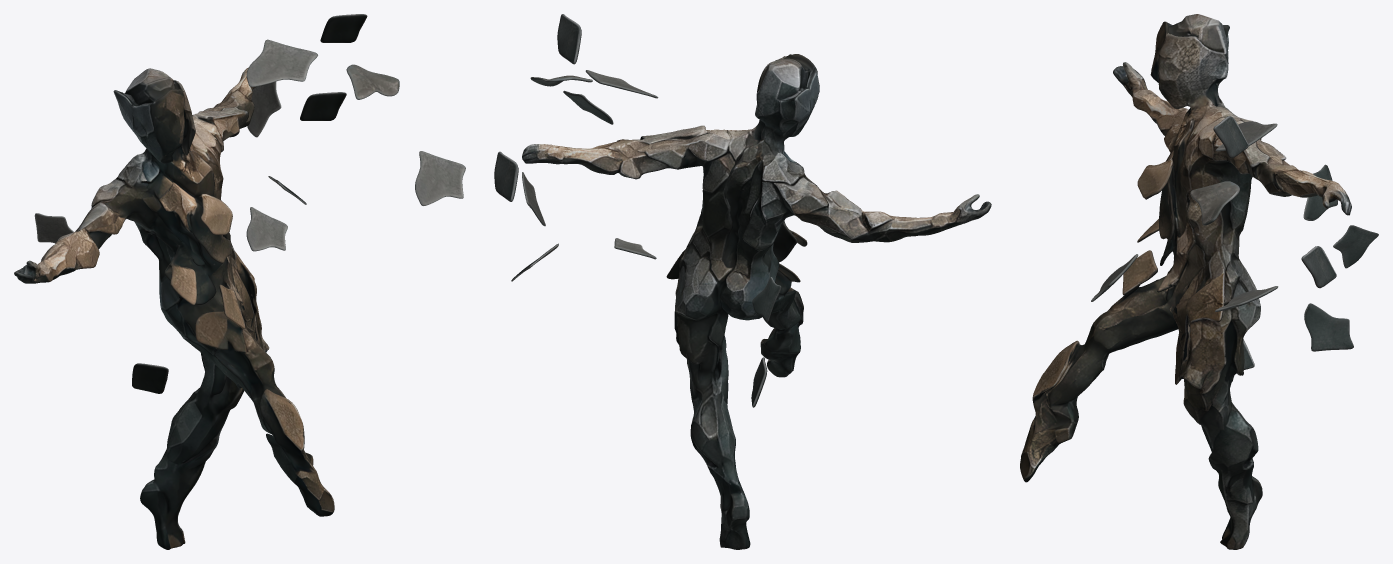
The model's file is huntington-jeff.glb.
3 renders of one model, left to right at view 1: azimuth 30°, elevation 25°; view 2: azimuth 150°, elevation 25°; view 3: azimuth 270°, elevation 25°, orthographic. The views are drawn at different scales.
Parts seen in each view (by area): view 1: tripo_node_1b9d6a059, moving3, moving004, moving010, moving2, moving006, moving1, moving005, moving008, moving007; view 2: tripo_node_1b9d6a059, moving1, moving005, moving007; view 3: tripo_node_1b9d6a059, moving009, moving2, moving006, moving1, moving005, moving007, moving3, moving010.
Boxes of the visible parts, x1,y1,x2,y2 form: tripo_node_1b9d6a059: (14,67,334,549); moving3: (246,39,317,87); moving004: (415,151,465,205); moving010: (246,207,287,251); moving2: (346,64,399,99); moving006: (247,81,281,137); moving1: (320,14,367,42); moving005: (300,92,346,120); moving008: (132,363,168,393); moving007: (34,213,73,243); tripo_node_1b9d6a059: (522,54,991,549); moving1: (557,14,581,64); moving005: (494,151,518,201); moving007: (752,277,781,322); tripo_node_1b9d6a059: (1020,14,1351,549); moving009: (1304,303,1353,351); moving2: (1190,181,1239,225); moving006: (1333,225,1378,268); moving1: (1213,116,1248,158); moving005: (1301,246,1336,288); moving007: (1303,164,1337,220); moving3: (1215,121,1277,151); moving010: (1215,286,1278,311).
Bounding box in the file's own units: 3617 × 3850 × 2453.
1 material, 1 textured.
